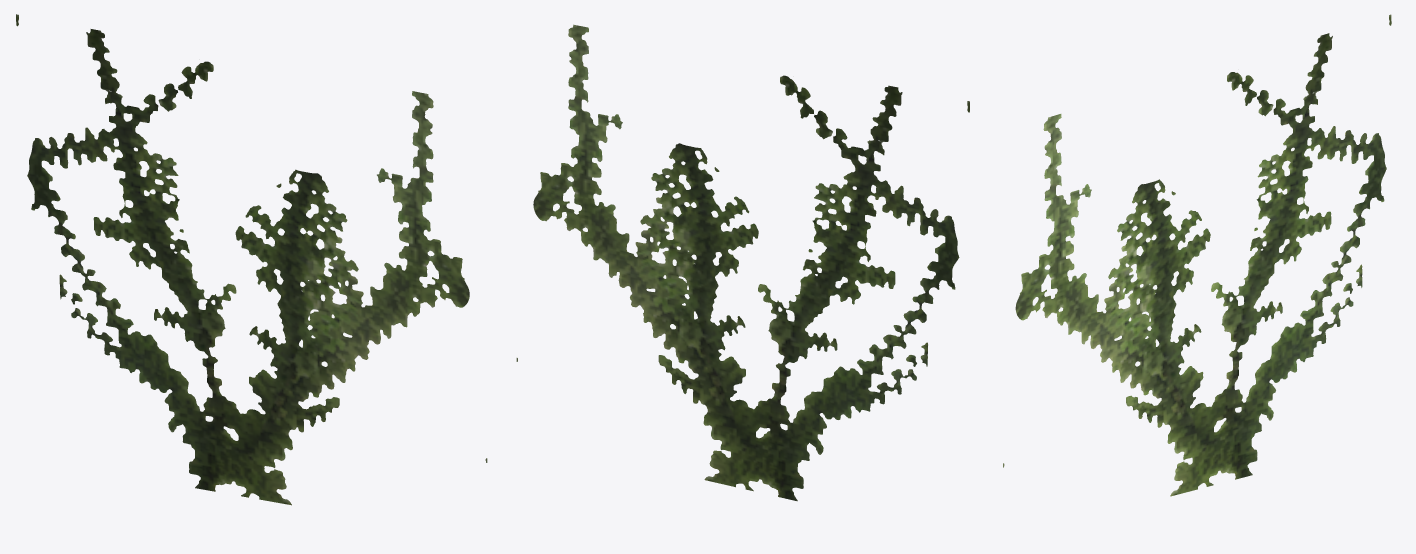
File: Climbing_Ivy_2.gltf
3 renders of one model, left to right at view 1: azimuth 30°, elevation 25°; view 2: azimuth 210°, elevation 25°; view 3: azimuth 270°, elevation 25°, orthographic. The views are drawn at different scales.
Visible parts, largest first — view 1: Climbing_Ivy_2; view 2: Climbing_Ivy_2; view 3: Climbing_Ivy_2.
Boxes of the visible parts, left/top/right/bottom form: Climbing_Ivy_2: left=16, top=14, right=487, bottom=505; Climbing_Ivy_2: left=516, top=24, right=969, bottom=501; Climbing_Ivy_2: left=1003, top=14, right=1391, bottom=496.
Size of the model in its own units: 5.08 by 8.27 by 7.2.
1 material, 1 textured.
